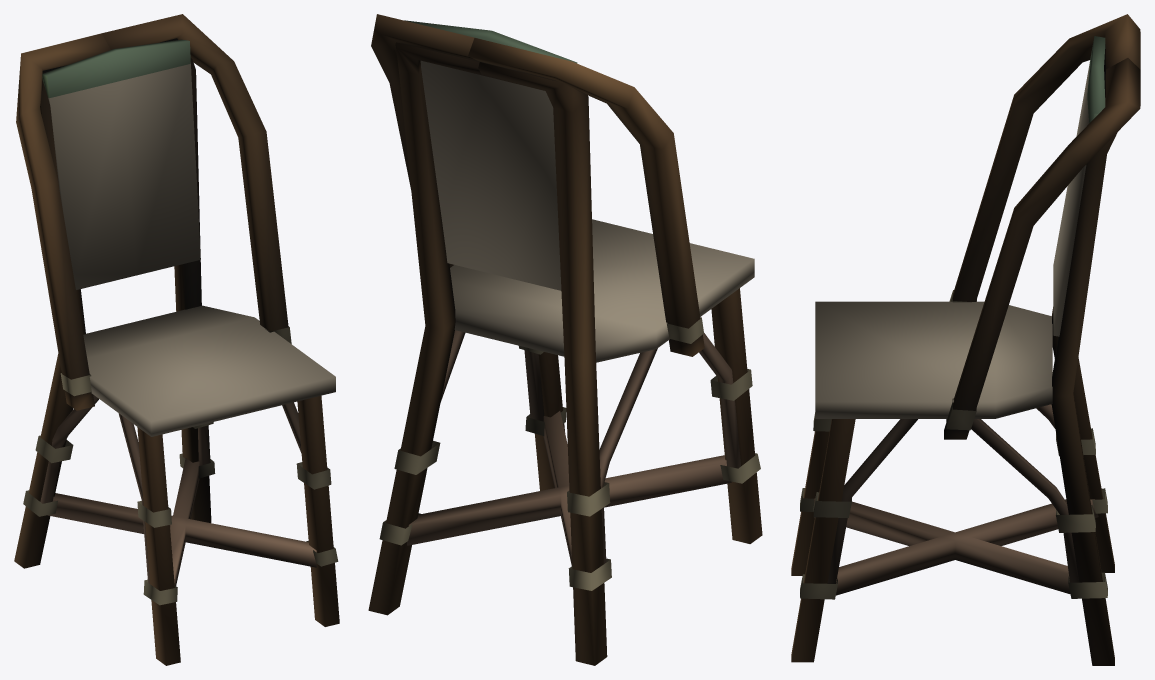
The picture shows the model from 3 angles, left to right: view 1: azimuth 30°, elevation 25°; view 2: azimuth 150°, elevation 25°; view 3: azimuth 270°, elevation 25°; orthographic projection. The views are drawn at different scales.
Visible parts, largest first — view 1: CafeChair; view 2: CafeChair; view 3: CafeChair.
Boxes of the visible parts, bbox=[...] form: CafeChair: bbox=[14, 14, 339, 665]; CafeChair: bbox=[368, 14, 762, 665]; CafeChair: bbox=[791, 14, 1140, 665].
Size of the model in its own units: 0.2373 by 0.5 by 0.2838.
